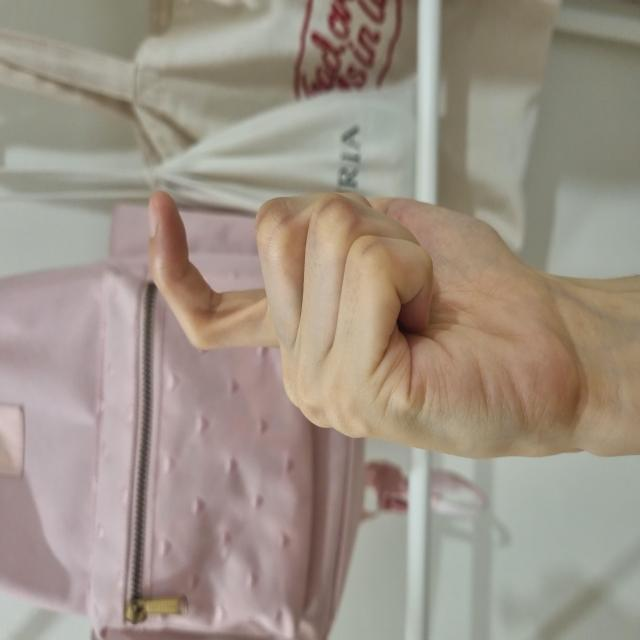X: (179, 146, 453, 580)
